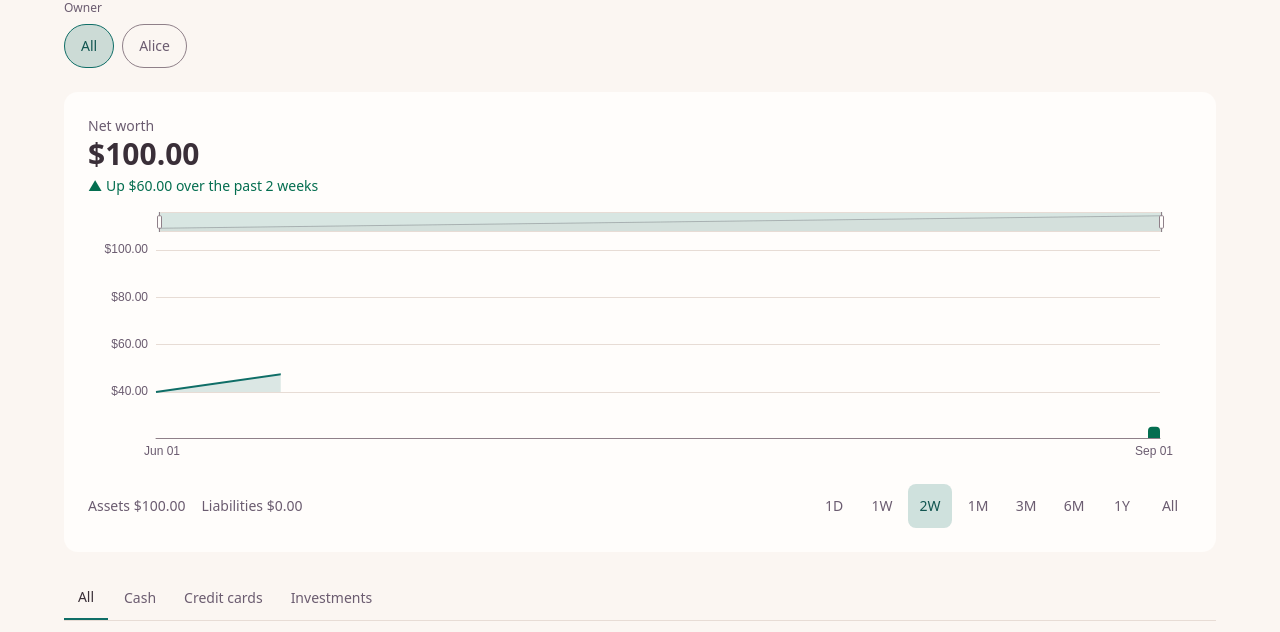
Test case: <Accounts /> views › says the portfolio ignores an active owner filter, rather than swapping totals silently
Click the button with test id "owner-filter-owner-1": (155, 46) [122,24,187,68]
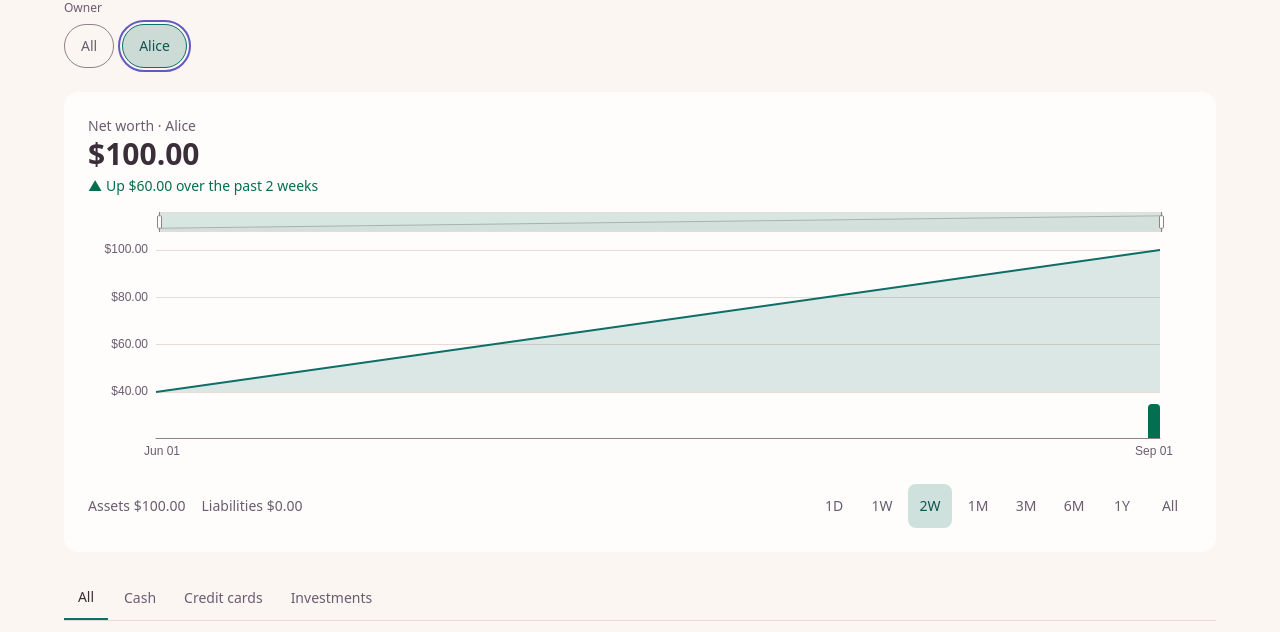
Click the tab with test id "accounts-view-investments": (331, 598) [279,576,384,620]
(page scrolled)
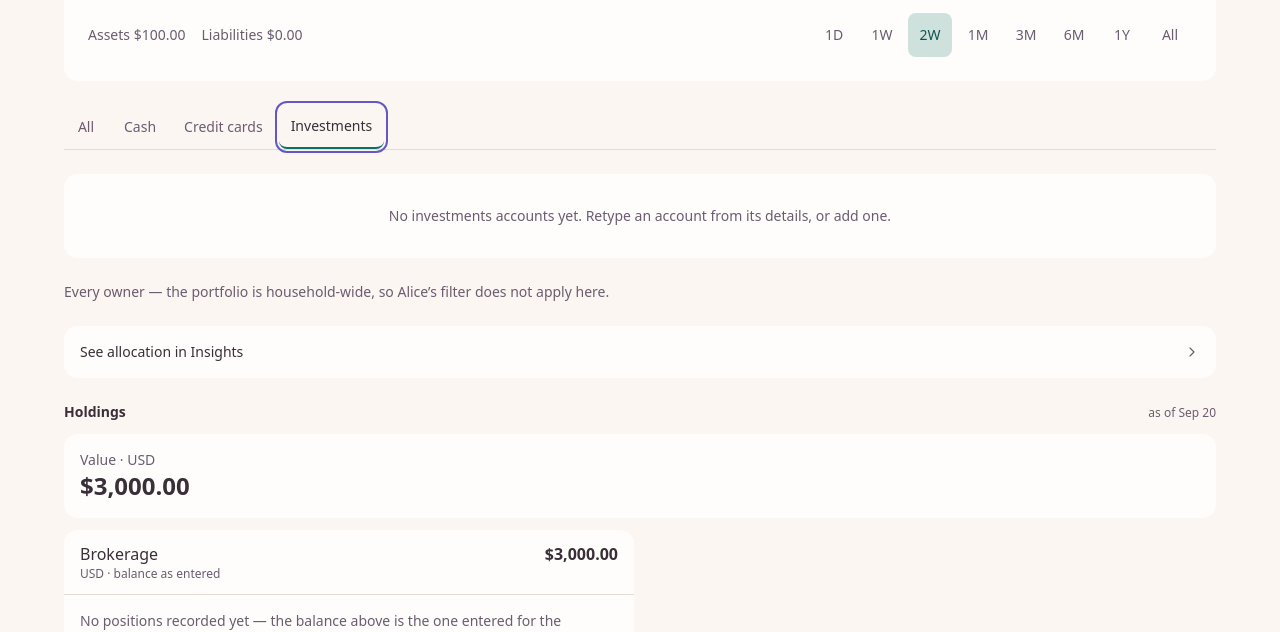
Check: the message with test id "investments-owner-note" shows "household-wide", box [64,282,398,301]
Check: the message with test id "investments-owner-note" shows "Alice", box [398,282,428,301]
